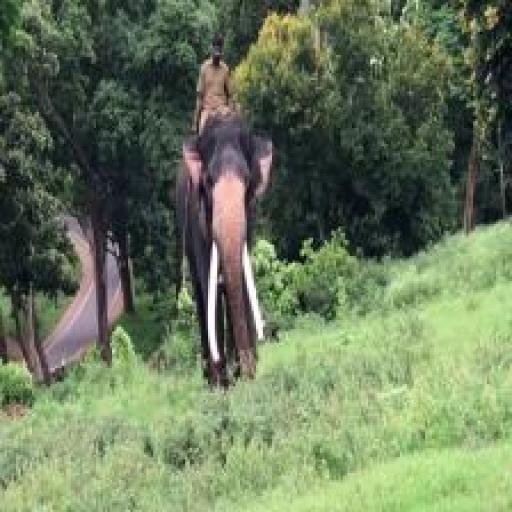Elephant: (172, 105, 274, 406)
